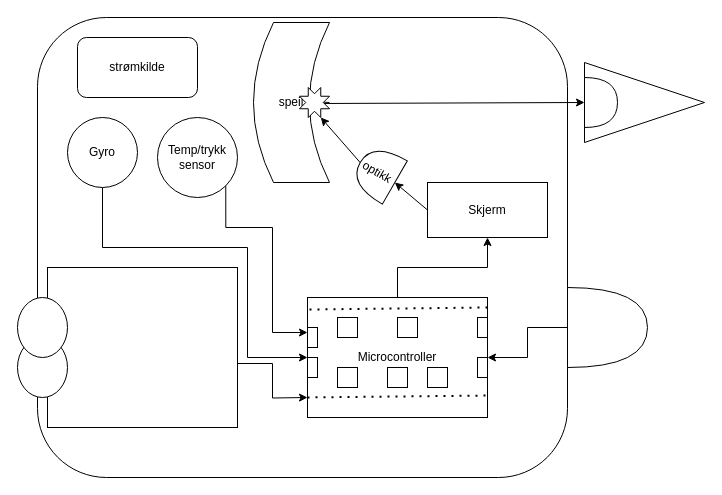
The diagram is 722 pixels wide and 495 high, and some of its shapes have lost their labels. Here are the shapes that lost their labels. From the top down, the centre of each, then its label:
the point at 601,102: øye
the point at 142,347: Laser Range Finder (LRF)
the point at 607,327: Vindstyrkehjul
